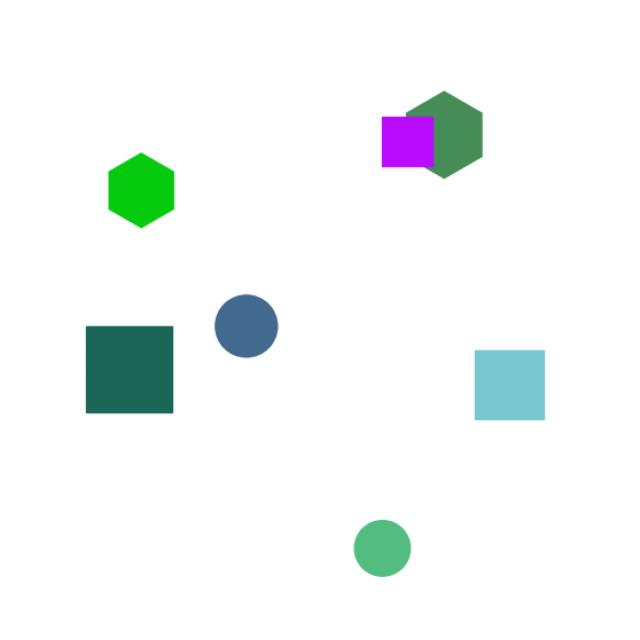Circle: (198, 276, 291, 372), (340, 500, 436, 578)
Hexagon: (391, 73, 505, 208), (88, 139, 210, 242)
square: (78, 314, 184, 422), (464, 338, 560, 432), (368, 100, 439, 176)
